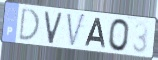3: (131, 20, 150, 55)
A: (83, 17, 107, 50)
D: (17, 7, 41, 42)
O: (107, 18, 131, 53)
V: (43, 10, 65, 46), (66, 12, 87, 49)
